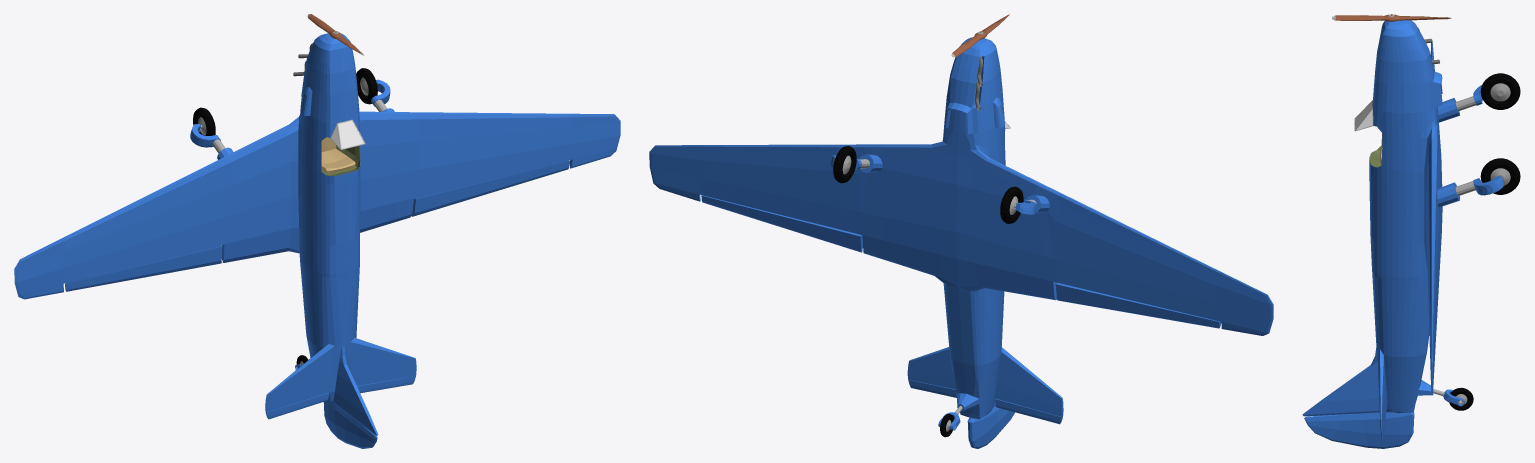
3 renders of one model, left to right at view 1: azimuth 30°, elevation 25°; view 2: azimuth 150°, elevation 25°; view 3: azimuth 270°, elevation 25°, orthographic. The views are drawn at different scales.
Visible parts, largest first — view 1: Plane, Wing_R, Wing_L, Back_rudder, Pane; view 2: Plane, Wing_R, Wing_L, Back_rudder; view 3: Plane, Back_rudder, Propeller, Pane.
Part boxes in pixels (x1,y1,x2,y2): Plane: (14,33,620,435); Wing_R: (65,245,222,291); Wing_L: (411,160,570,216); Back_rudder: (323,400,377,448); Pane: (331,120,363,148); Plane: (649,37,1273,437); Wing_R: (1055,283,1221,328); Wing_L: (701,195,862,252); Back_rudder: (967,406,1014,448); Plane: (1302,20,1520,438); Back_rudder: (1304,412,1414,448); Propeller: (1332,14,1451,21); Pane: (1355,101,1372,130).
Size of the model in its own units: 5766 by 1674 by 3680.
